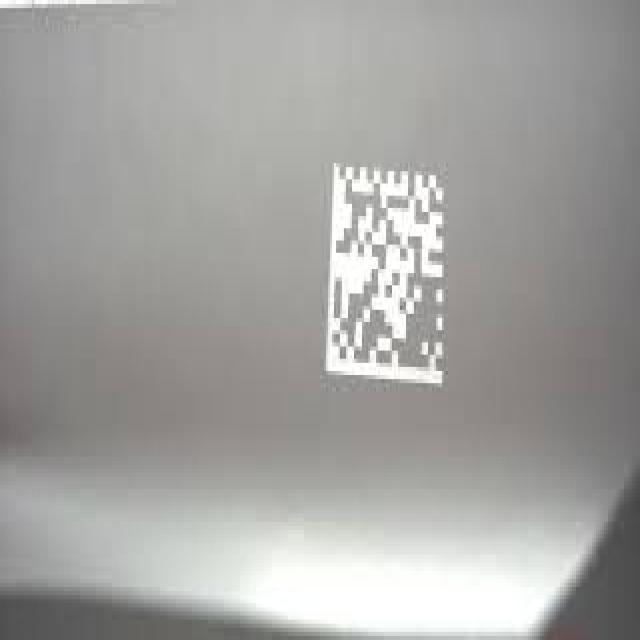datamatrix: (317, 140, 457, 401)
